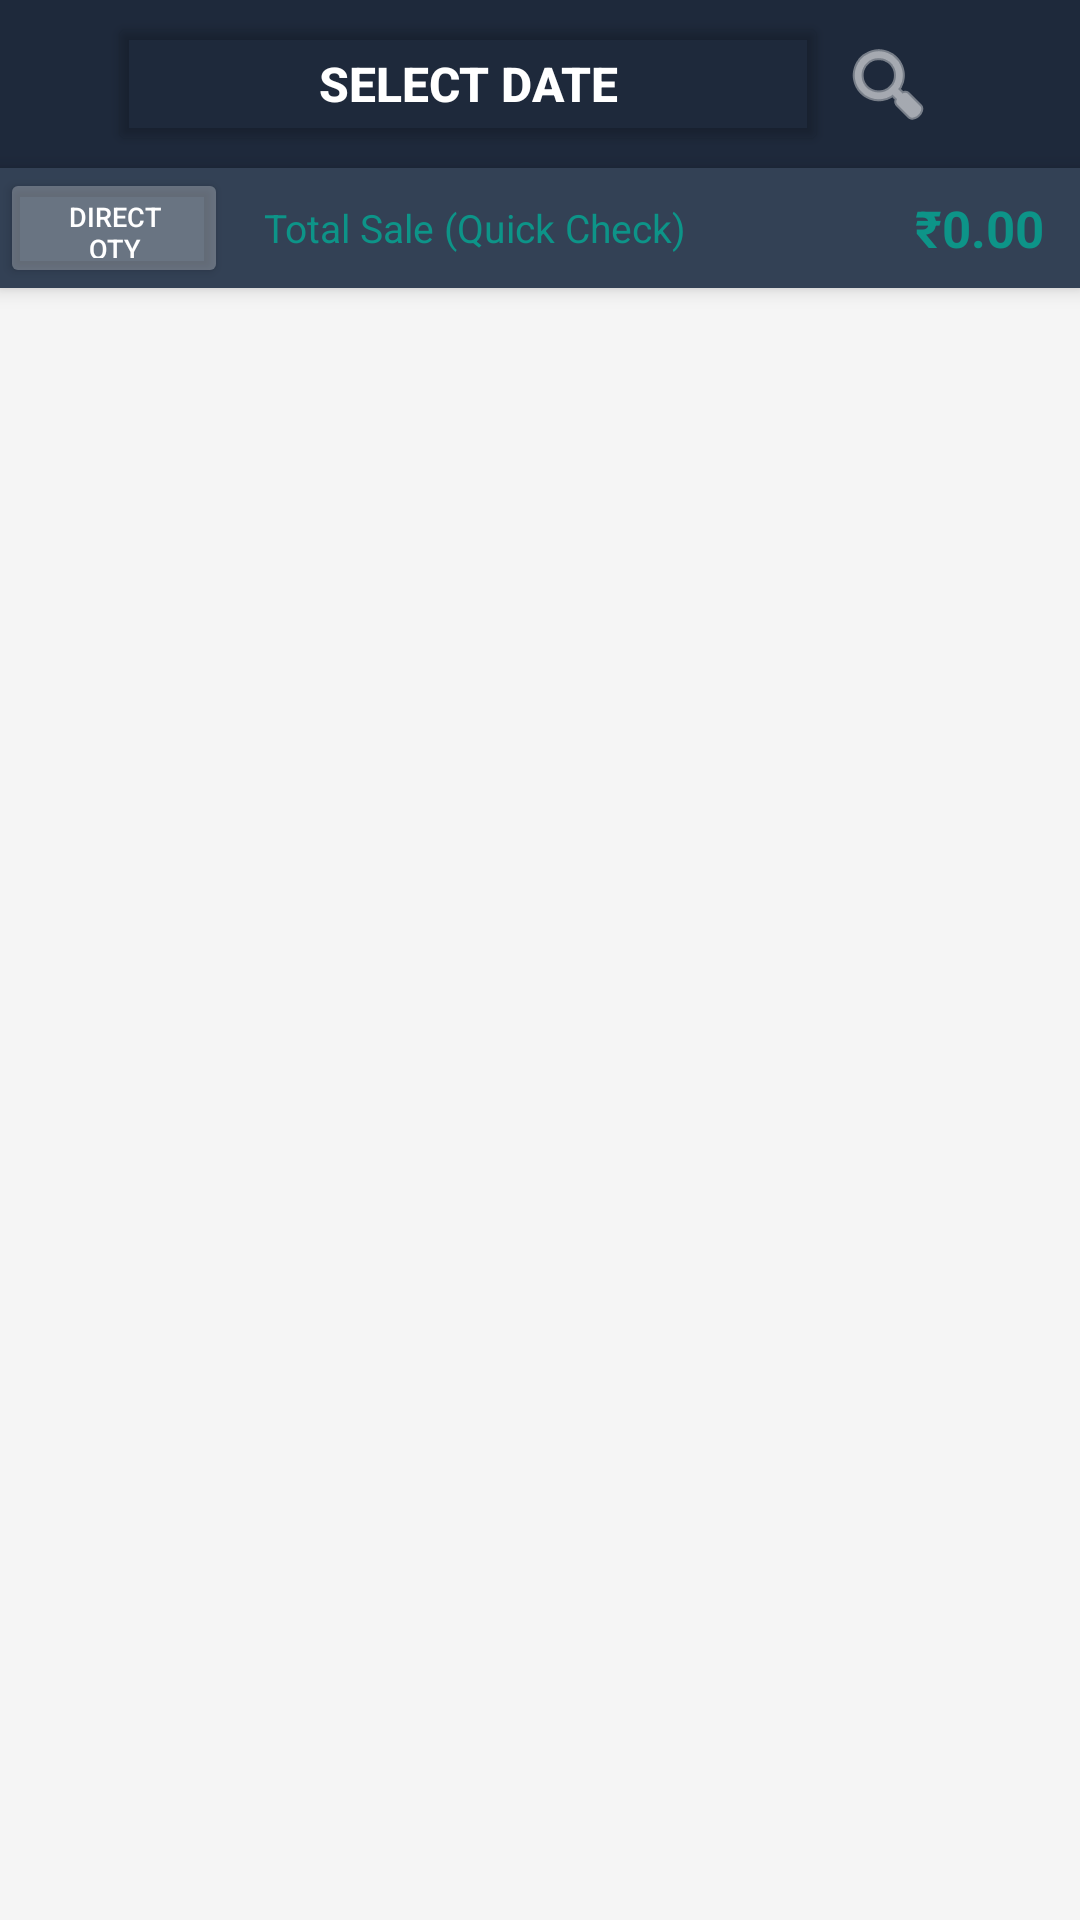

Screen size 1080×1920. Icon name, then its center in pixels as [x,y]:
Search: [888,84]
